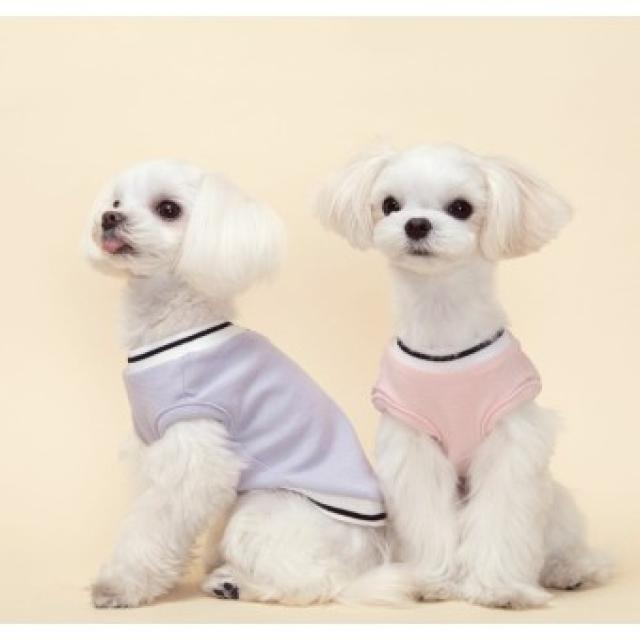cloth: (124, 321, 386, 526), (372, 329, 541, 474)
